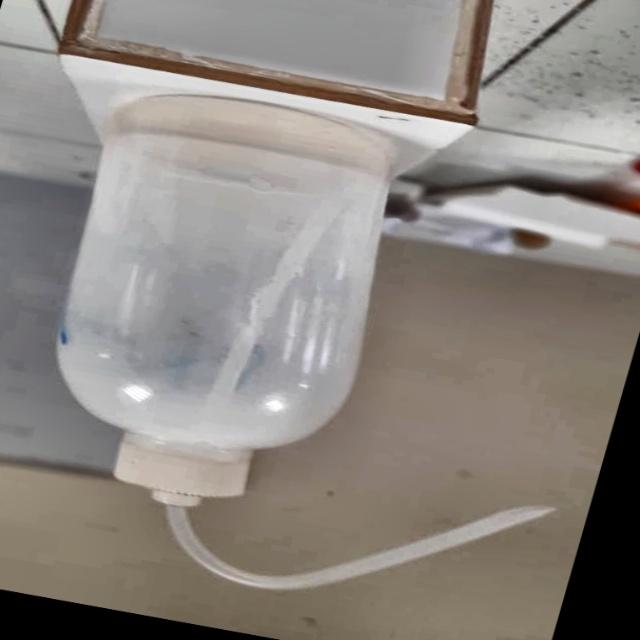Washing Bottle: (0, 78, 640, 640)
